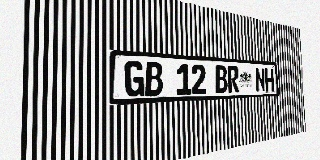1: (176, 63, 192, 95)
2: (191, 64, 206, 94)
B: (145, 62, 163, 96), (215, 65, 228, 93)
G: (124, 61, 144, 97)
H: (264, 68, 274, 92)
N: (255, 67, 265, 92)
R: (227, 66, 239, 93)
